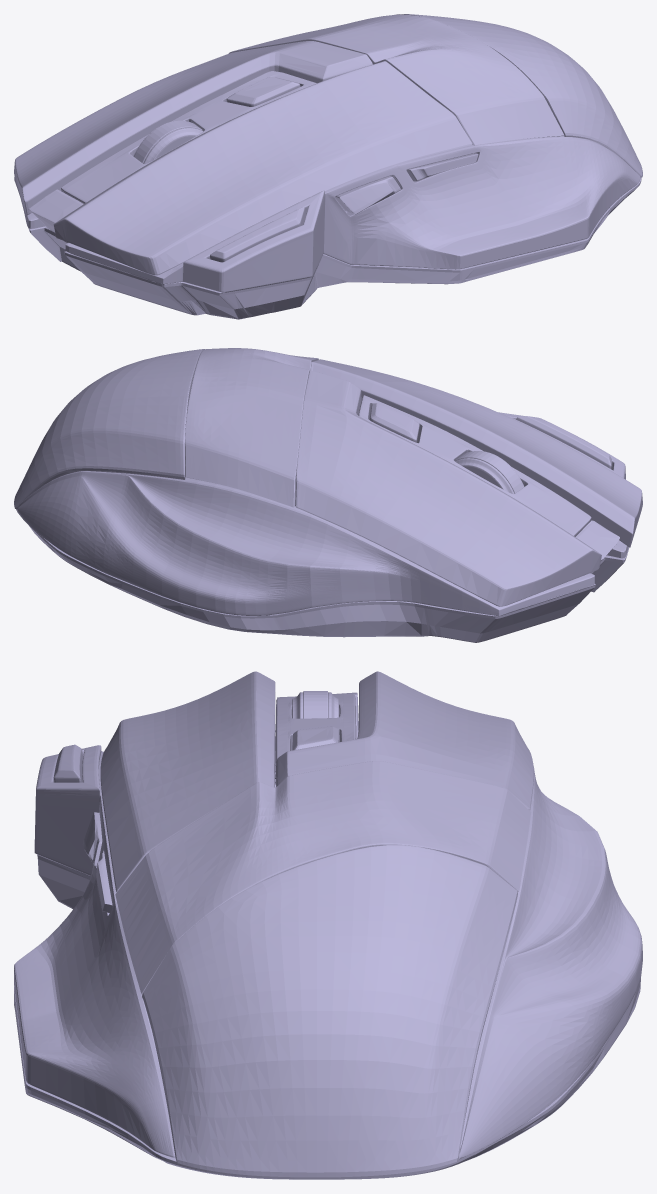
3 renders of one model, top to bottom at view 1: azimuth 30°, elevation 25°; view 2: azimuth 150°, elevation 25°; view 3: azimuth 270°, elevation 25°, orthographic. The views are drawn at different scales.
Visible parts, largest first — view 1: Plane.001_Material.002_0; view 2: Plane.001_Material.002_0; view 3: Plane.001_Material.002_0.
Part boxes in pixels (x1,y1,x2,y2): Plane.001_Material.002_0: (14, 14, 642, 319); Plane.001_Material.002_0: (14, 348, 642, 642); Plane.001_Material.002_0: (14, 671, 642, 1179).
Bounding box in the file's own units: 1124 × 300 × 740.
